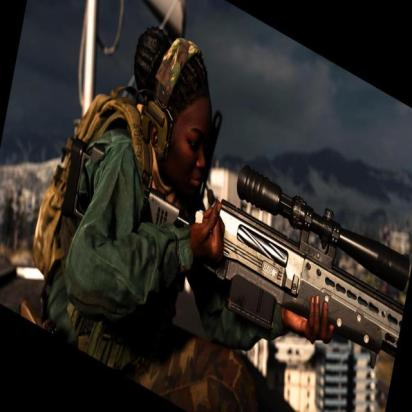Gun: (63, 132, 411, 360)
